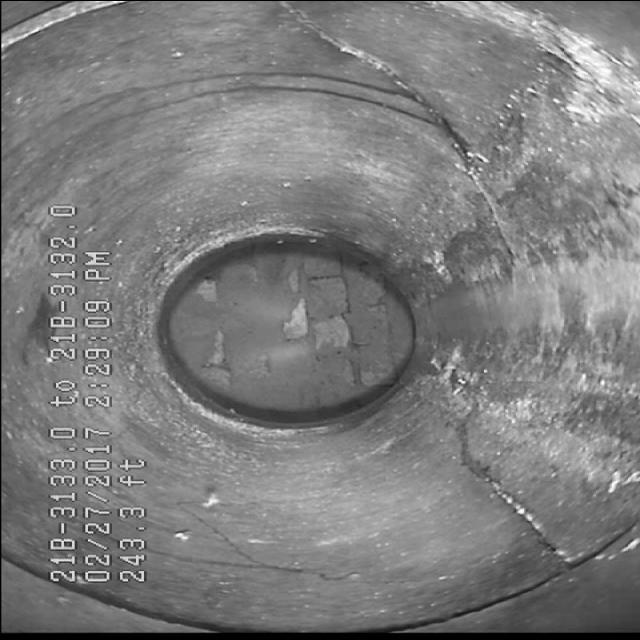Fracture: (298, 0, 516, 212), (412, 423, 584, 559), (171, 512, 359, 584)
